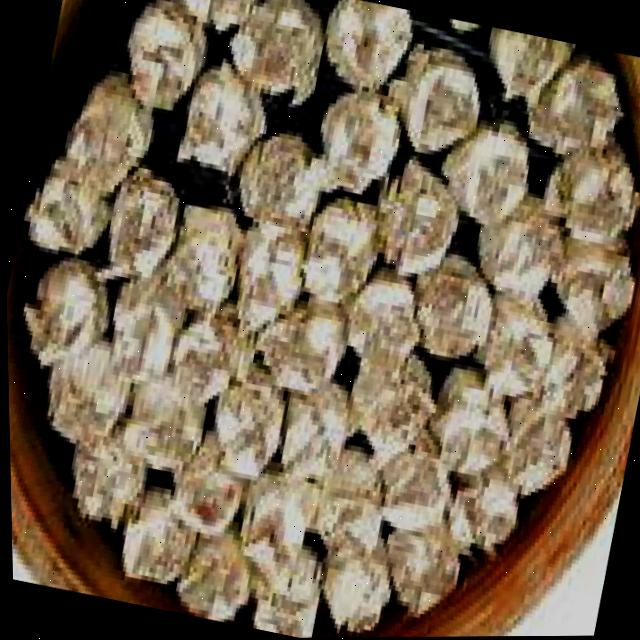带馅早点: (55, 18, 601, 583)
